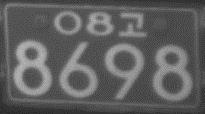0: (53, 10, 82, 36)
6: (59, 40, 98, 99)
8: (151, 44, 192, 102), (12, 39, 52, 97), (85, 10, 113, 36)
9: (103, 43, 145, 100)
고: (118, 12, 146, 37)
